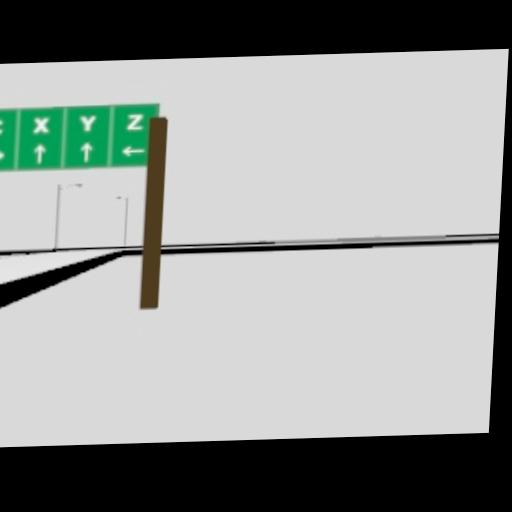C: (0, 117, 2, 135)
Left: (119, 145, 145, 157)
Right: (0, 149, 4, 160)
Straight: (78, 142, 92, 163), (32, 143, 46, 164)
X: (32, 115, 49, 132)
Y: (78, 114, 95, 130)
Z: (124, 113, 143, 129)
